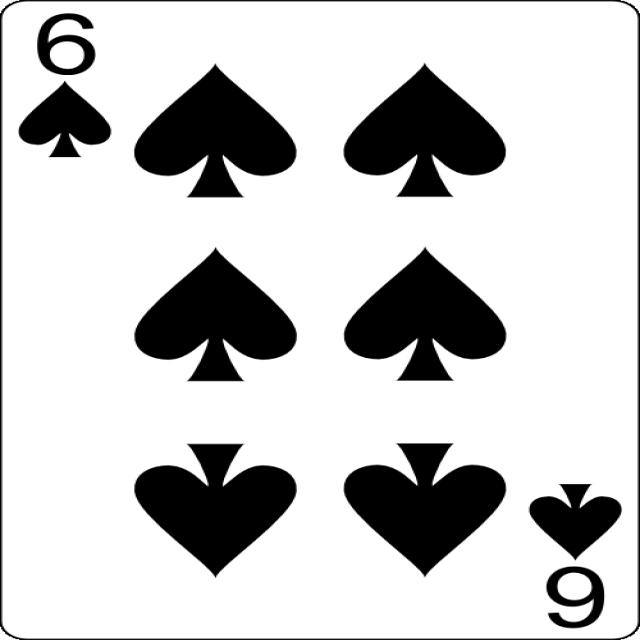Spade: (342, 62, 507, 197), (134, 63, 296, 198), (134, 247, 297, 381), (343, 443, 506, 577), (344, 247, 506, 381), (134, 444, 296, 578), (18, 81, 112, 157), (528, 484, 622, 560)
